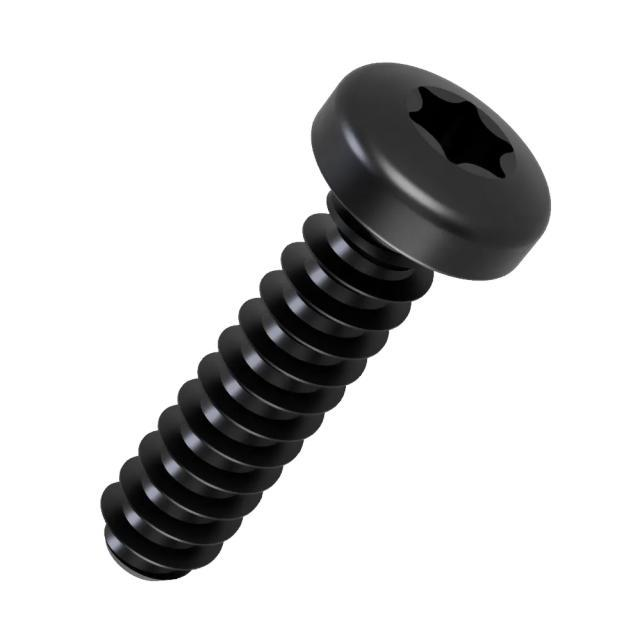torx: (310, 59, 554, 280)
